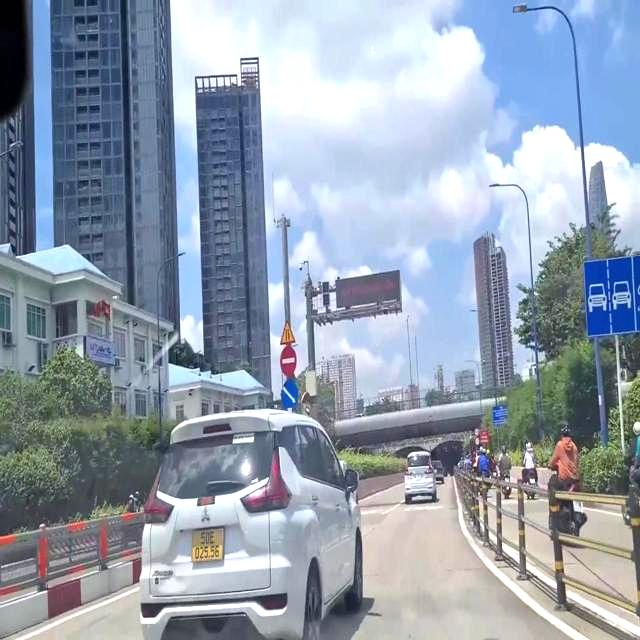Cấm đi ngược chiều: (280, 345, 298, 378)
Hướng phải đi vòng sang phải: (277, 378, 301, 409)
Khác: (490, 401, 510, 424)
Làn đường cho từng xe: (580, 253, 637, 331)
Đường hẹp: (280, 317, 296, 345)
